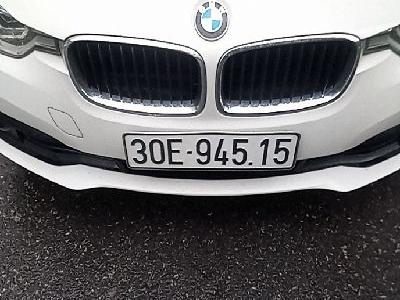lisence: (121, 131, 302, 173)
